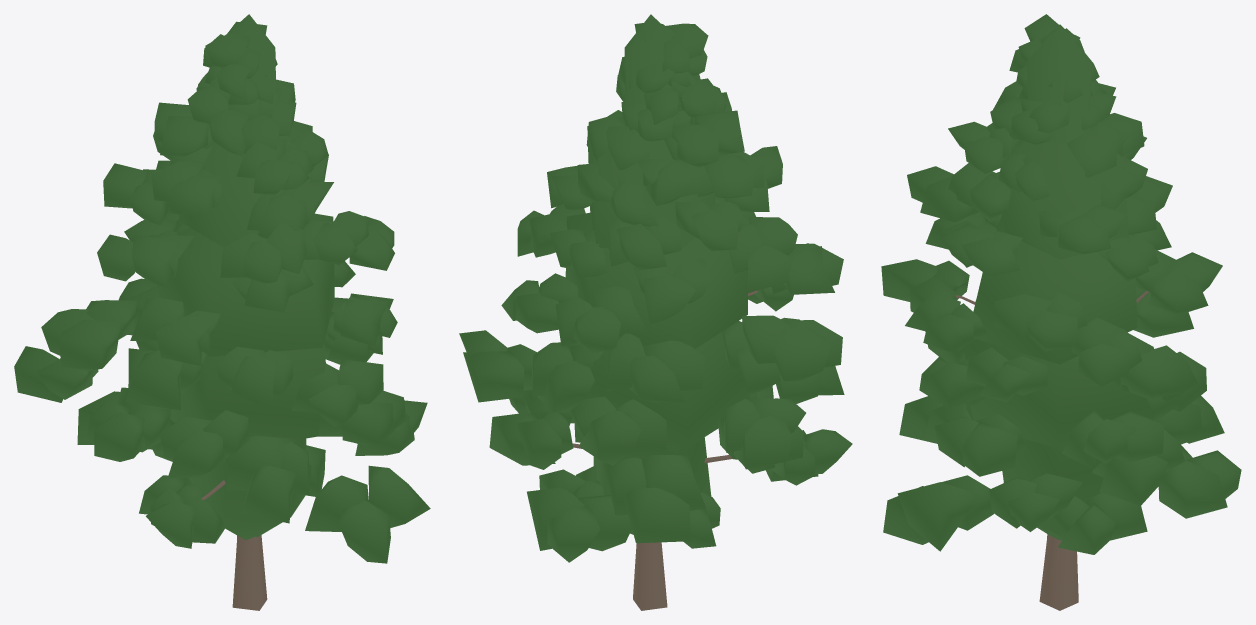
The model's file is Blender_AfghanPine_1_Far.glb.
3 views of the same model, side by side, from view 1: azimuth 30°, elevation 25°; view 2: azimuth 150°, elevation 25°; view 3: azimuth 270°, elevation 25° (orthographic). The views are drawn at different scales.
Parts seen in each view (by area): view 1: Blender_AfghanPine_1_Far; view 2: Blender_AfghanPine_1_Far; view 3: Blender_AfghanPine_1_Far.
Part boxes in pixels (x1,y1,x2,y2): Blender_AfghanPine_1_Far: [14, 14, 430, 610]; Blender_AfghanPine_1_Far: [459, 14, 852, 610]; Blender_AfghanPine_1_Far: [881, 14, 1241, 610].
Size of the model in its own units: 10.81 by 16.82 by 9.49.
